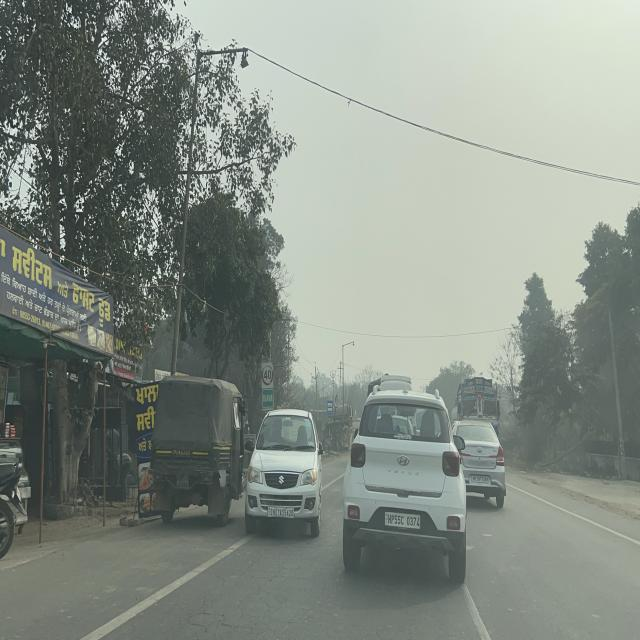GENERAL: (262, 388, 273, 408)
INFORMATION: (327, 401, 333, 416)
SPEED_LIMIT_40: (261, 364, 274, 384)
